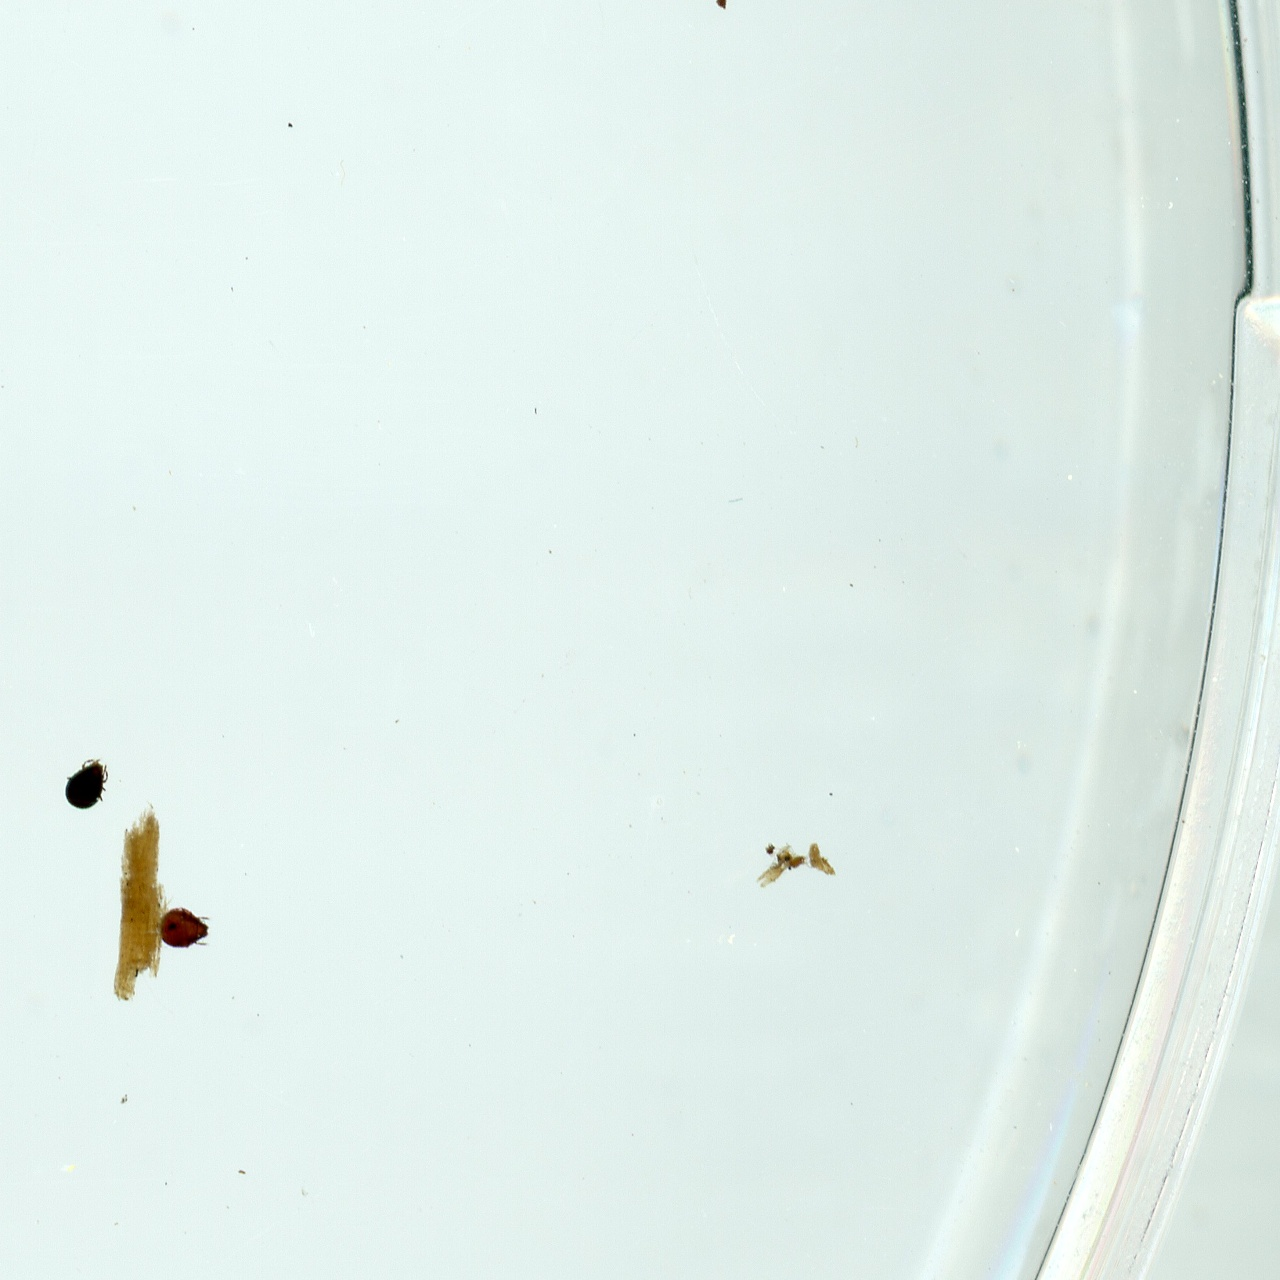arthropod: (58, 753, 112, 814), (157, 904, 215, 955)
